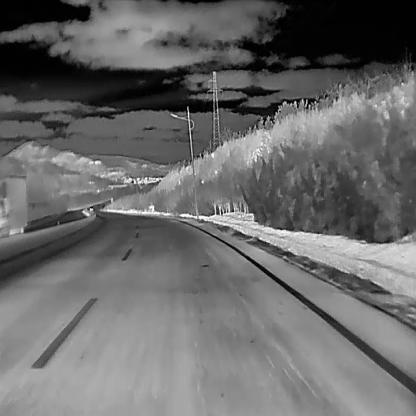car: (0, 173, 26, 232), (89, 205, 94, 210)
